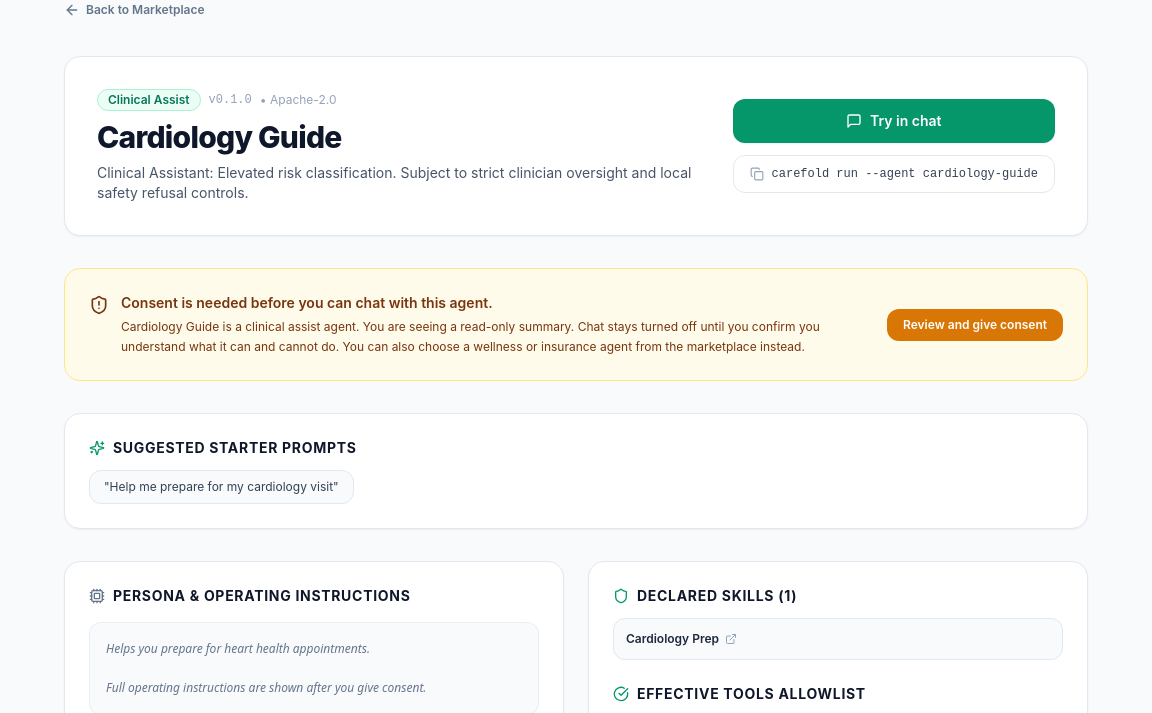
Test case: AgentDetailClient clinical consent (#87) › grant loads the full detail through the proxy with allow_clinical=true
The width and height of the screenshot is (1152, 713).
Step 1. Click the button with test id "agent-consent-review" → (975, 324), box [887,308,1063,340]
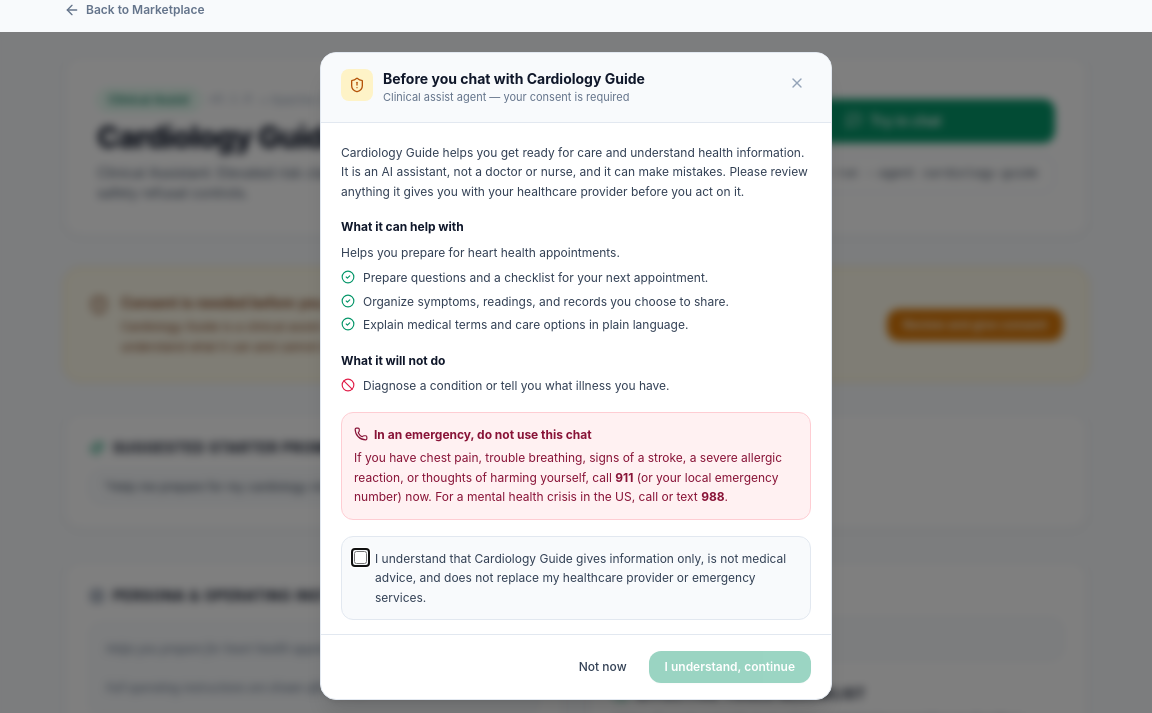
Step 2. Click the checkbox with test id "clinical-consent-ack" → (360, 557), box [354,550,367,564]
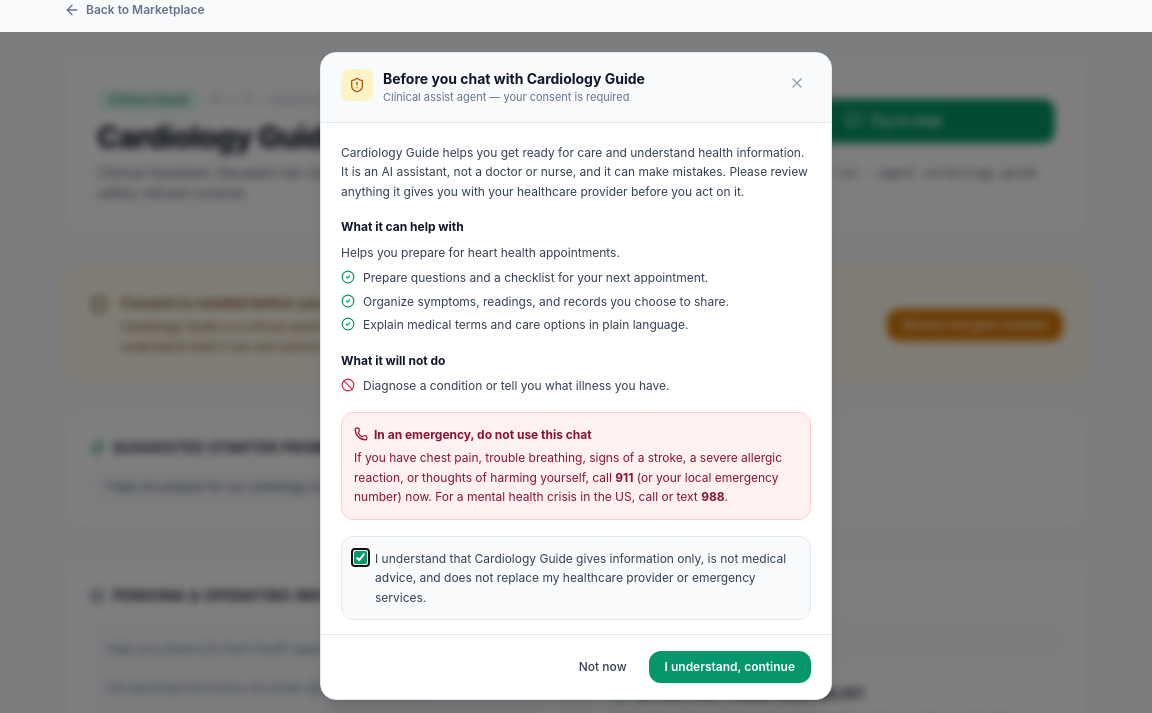
Step 3. Click the button with test id "clinical-consent-accept" → (730, 667), box [649,651,811,683]
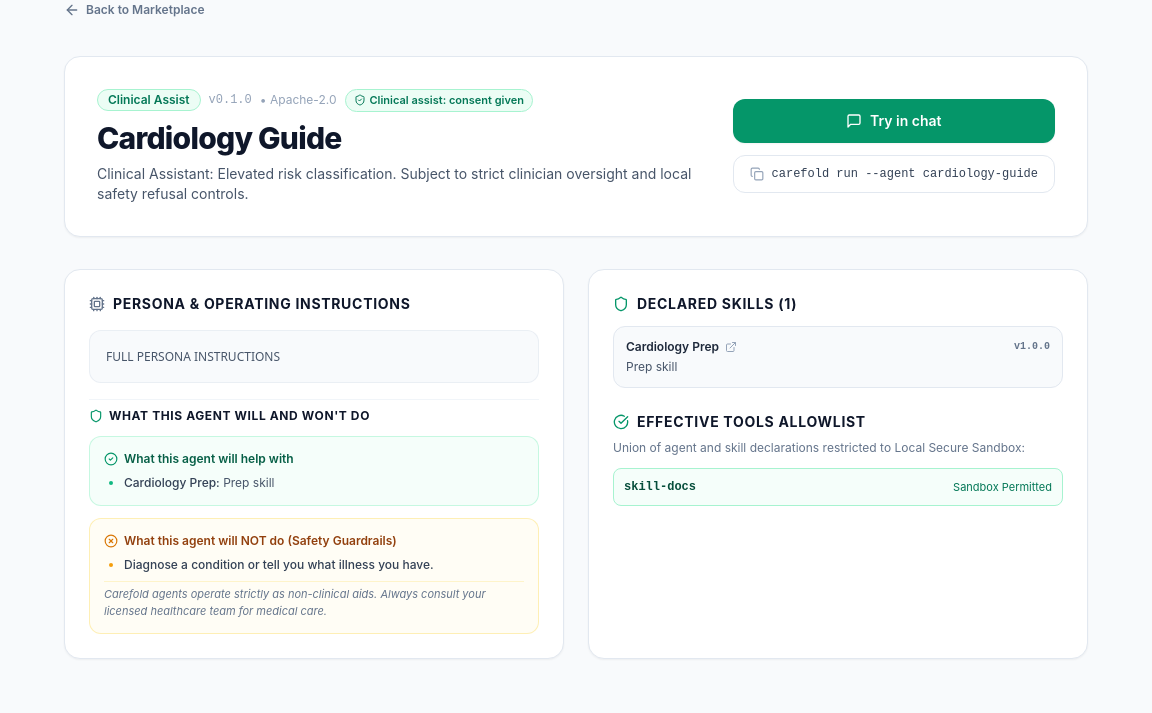
Expected: the text "FULL PERSONA INSTRUCTIONS" is shown, [89,330,539,383]
Expected: the element with test id "clinical-consent-chip" is shown, [344,89,533,112]
Expected: the message with test id "agent-consent-required" is gone
